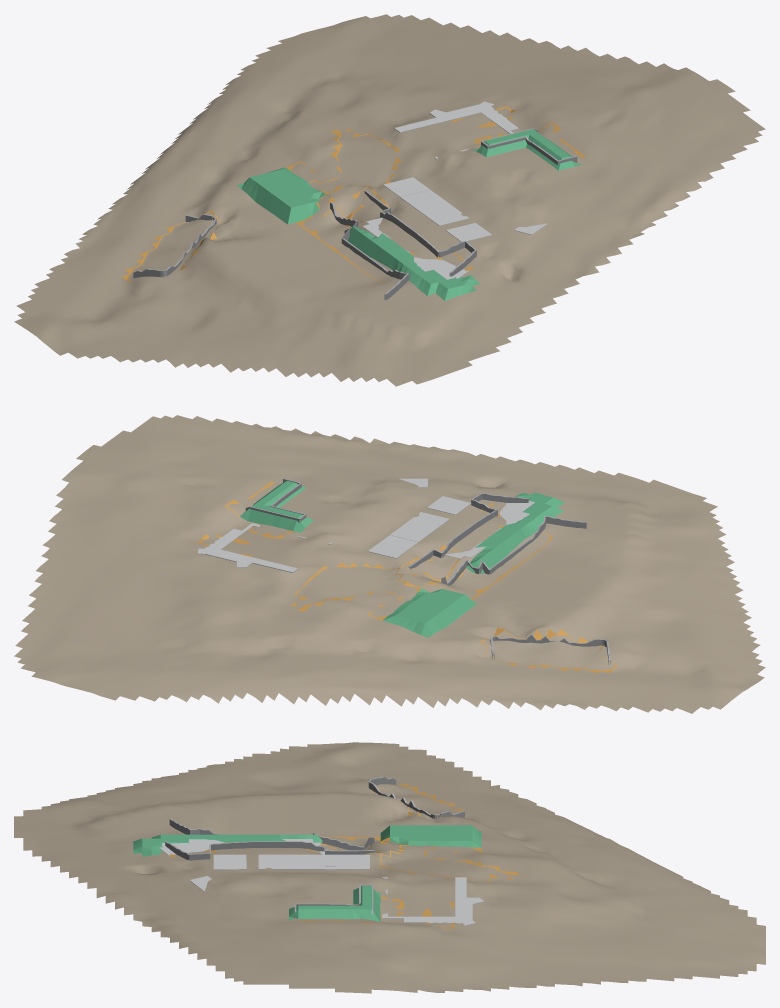
File: terraplanagem-djalma.glb
3 renders of one model, top to bottom at view 1: azimuth 30°, elevation 25°; view 2: azimuth 150°, elevation 25°; view 3: azimuth 270°, elevation 25°, orthographic. The views are drawn at different scales.
Parts seen in each view (by area): view 1: TERRENO_NATURAL, MARCA_ATERRO, PISOS, CONTENCOES, MARCA_CORTE; view 2: TERRENO_NATURAL, MARCA_ATERRO, PISOS, CONTENCOES, MARCA_CORTE; view 3: TERRENO_NATURAL, MARCA_ATERRO, PISOS, CONTENCOES, MARCA_CORTE.
Boxes of the visible parts, left/top/right/bottom form: TERRENO_NATURAL: left=14, top=14, right=765, bottom=386; MARCA_ATERRO: left=237, top=129, right=581, bottom=300; PISOS: left=362, top=101, right=547, bottom=279; CONTENCOES: left=133, top=128, right=577, bottom=300; MARCA_CORTE: left=122, top=106, right=585, bottom=282; TERRENO_NATURAL: left=14, top=415, right=765, bottom=713; MARCA_ATERRO: left=240, top=480, right=565, bottom=637; PISOS: left=198, top=478, right=535, bottom=572; CONTENCOES: left=245, top=478, right=610, bottom=664; MARCA_CORTE: left=197, top=481, right=617, bottom=672; TERRENO_NATURAL: left=14, top=742, right=765, bottom=993; MARCA_ATERRO: left=133, top=825, right=481, bottom=922; PISOS: left=159, top=839, right=484, bottom=925; CONTENCOES: left=165, top=776, right=464, bottom=914; MARCA_CORTE: left=170, top=784, right=527, bottom=928.
Size of the model in its own units: 172 by 20.5 by 164.
